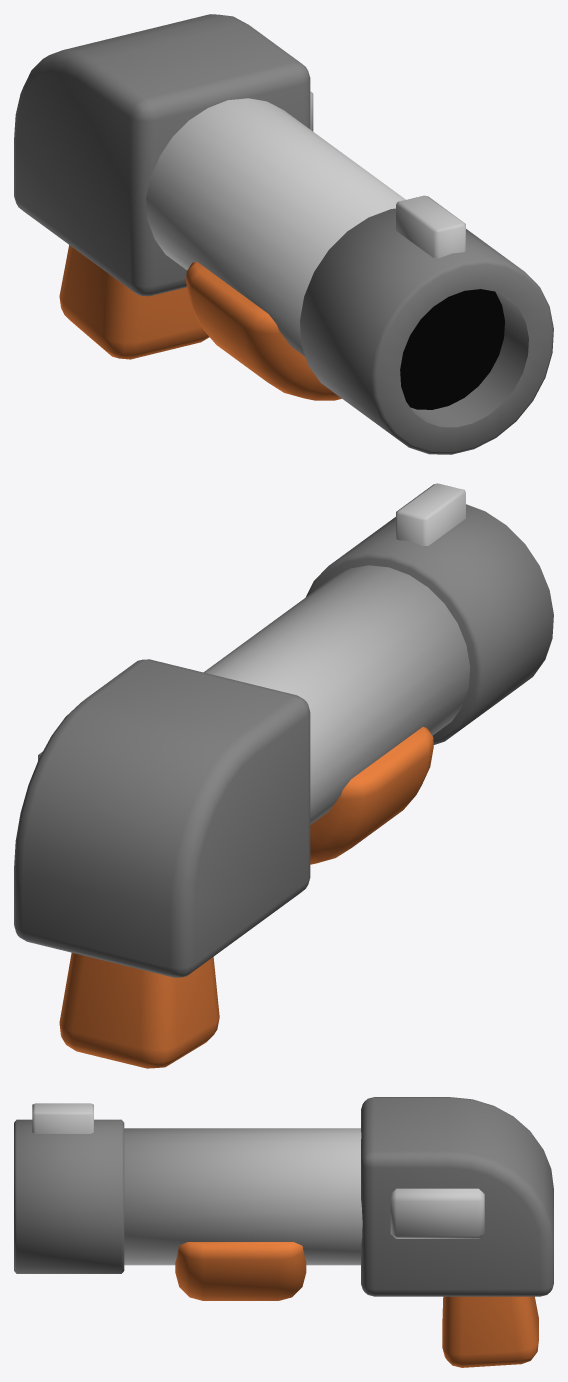
File: Gun_1.fbx
3 views of the same model, one above another, from view 1: azimuth 30°, elevation 25°; view 2: azimuth 150°, elevation 25°; view 3: azimuth 270°, elevation 25° (orthographic). The views are drawn at different scales.
Parts seen in each view (by area): view 1: Gun_1; view 2: Gun_1; view 3: Gun_1.
Boxes of the visible parts, <box> form: Gun_1: <box>14,14,553,454</box>; Gun_1: <box>14,483,553,1068</box>; Gun_1: <box>14,1097,553,1367</box>.
Size of the model in its own units: 48.24 by 76.2 by 152.
